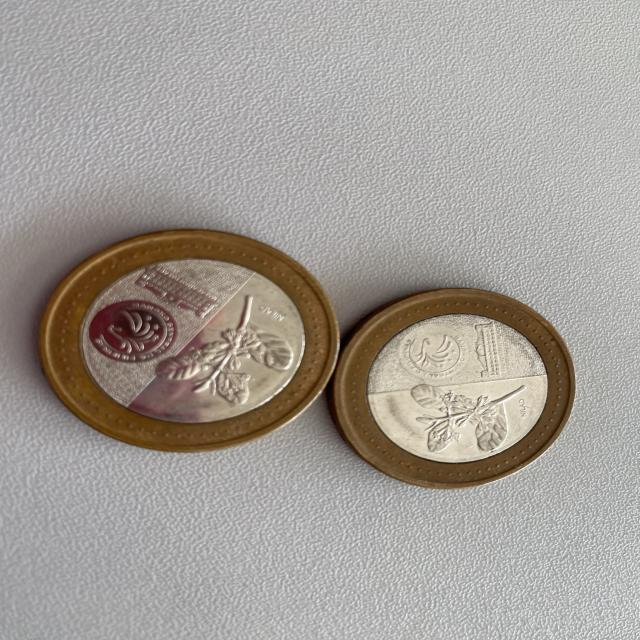20_New_Back: (160, 290, 292, 406), (396, 374, 528, 448)
